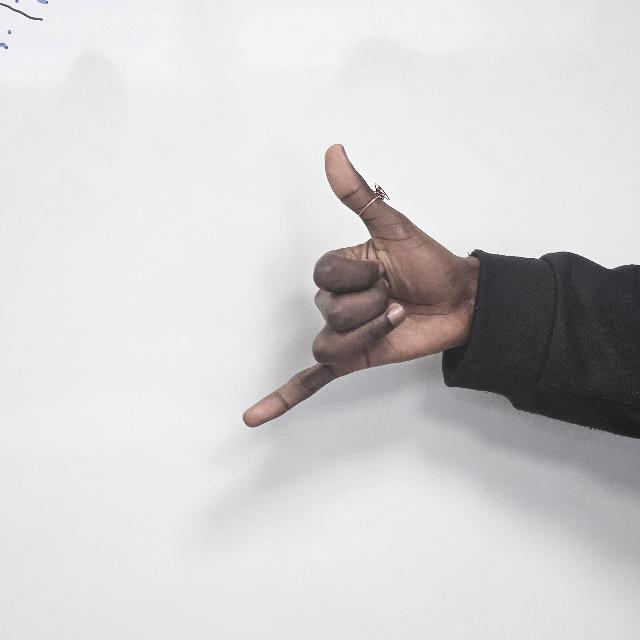Direita: (239, 141, 476, 457)
